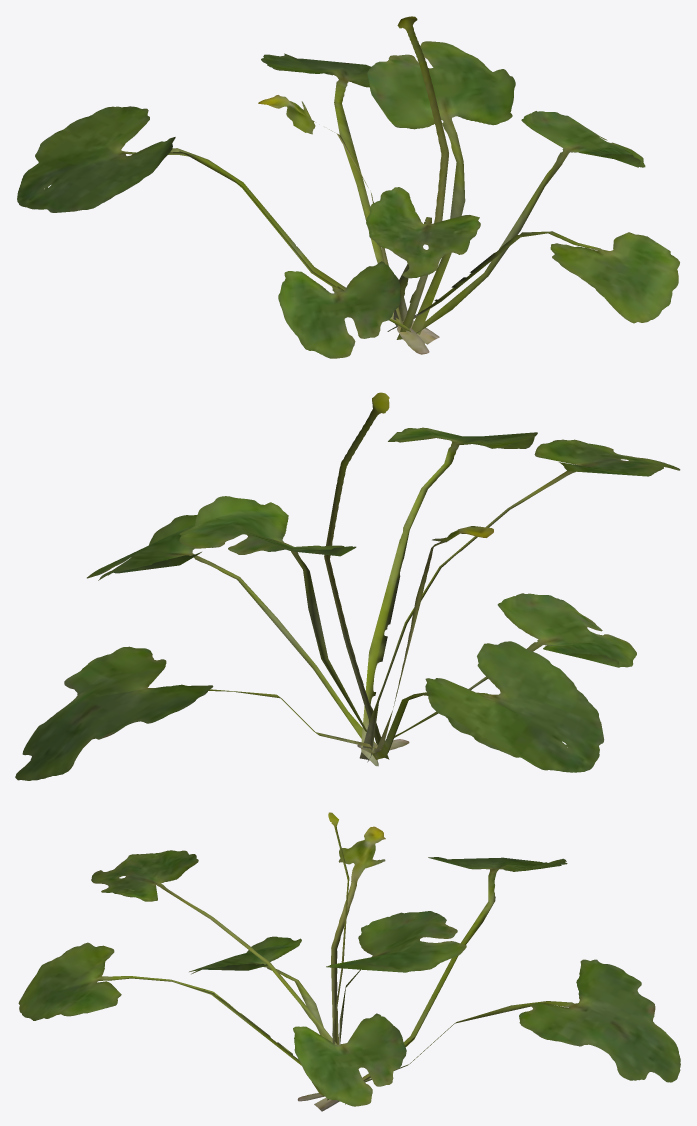
3 views of the same model, one above another, from view 1: azimuth 30°, elevation 25°; view 2: azimuth 150°, elevation 25°; view 3: azimuth 270°, elevation 25° (orthographic). The views are drawn at different scales.
Parts seen in each view (by area): view 1: celandine_01__b_lod1; view 2: celandine_01__b_lod1; view 3: celandine_01__b_lod1.
Boxes of the visible parts, <box> form: celandine_01__b_lod1: <box>17,16,679,358</box>; celandine_01__b_lod1: <box>15,392,680,780</box>; celandine_01__b_lod1: <box>18,812,680,1111</box>.
Bounding box in the file's own units: 0.2574 × 0.1493 × 0.313.
1 material, 1 textured.
